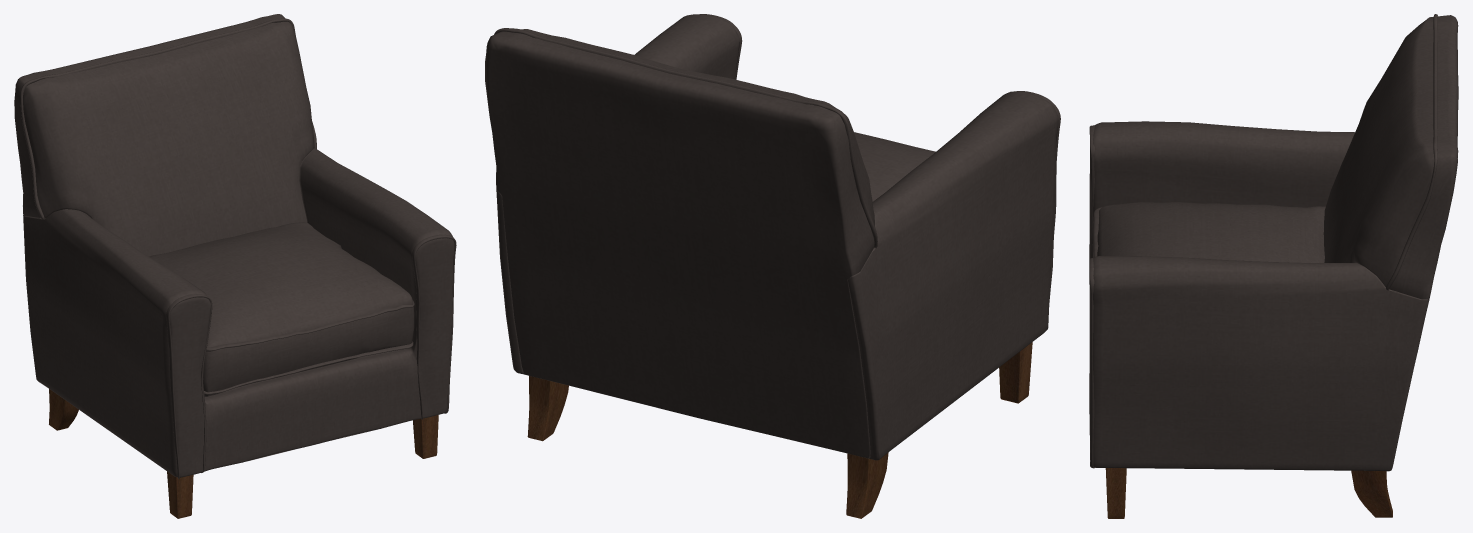
The model's file is office_chair_B075X4N515.glb.
3 views of the same model, side by side, from view 1: azimuth 30°, elevation 25°; view 2: azimuth 150°, elevation 25°; view 3: azimuth 270°, elevation 25° (orthographic). The views are drawn at different scales.
Visible parts, largest first — view 1: RootNode; view 2: RootNode; view 3: RootNode.
Boxes of the visible parts, <box> form: RootNode: <box>14,14,456,518</box>; RootNode: <box>485,14,1060,518</box>; RootNode: <box>1089,14,1458,518</box>.
Bounding box in the file's own units: 0.8365 × 0.9108 × 0.8312.
1 material, 1 textured.
